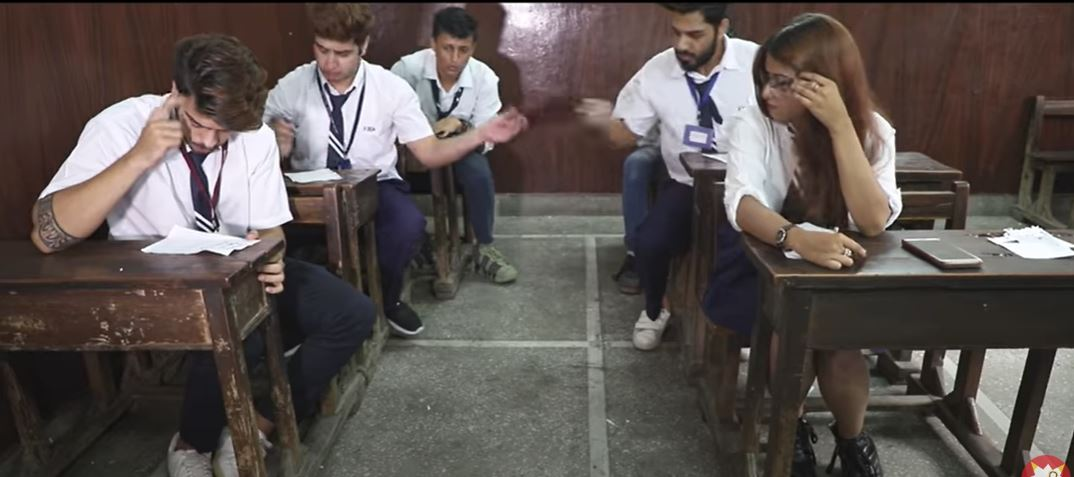chit: (456, 105, 536, 157)
student: (64, 55, 298, 276), (695, 33, 916, 264), (612, 17, 787, 187), (282, 17, 420, 192), (409, 19, 518, 124)
